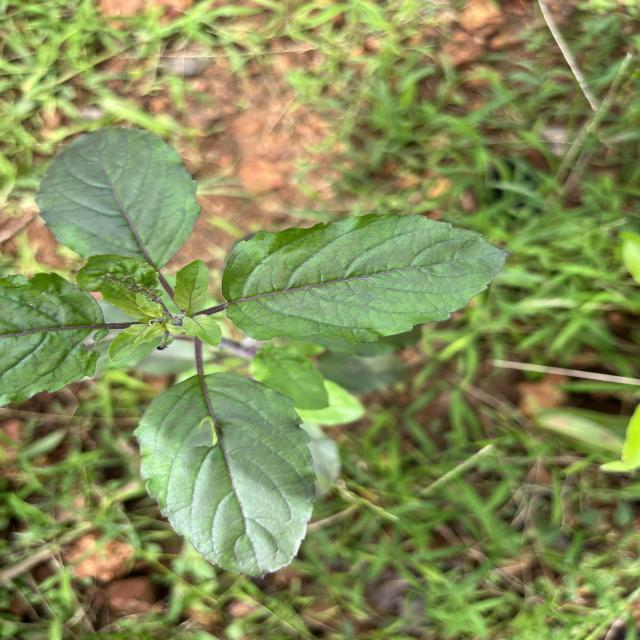Ocimum tenuiflorum: (216, 206, 514, 350), (128, 363, 322, 584)
